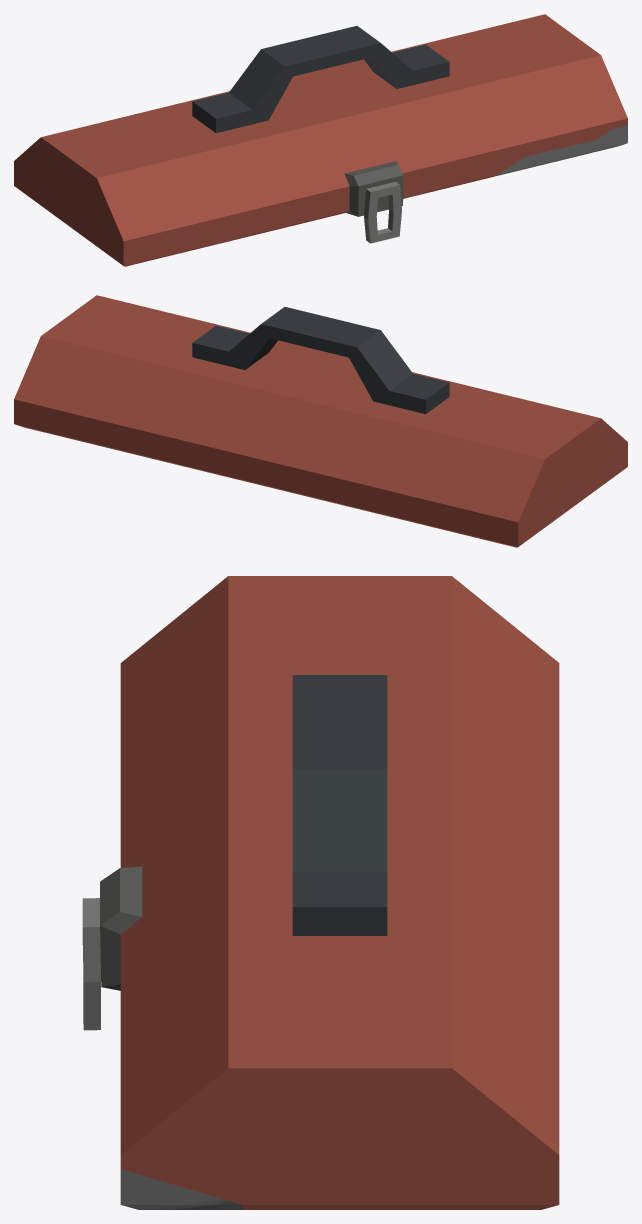
Rendered from SM_Prop_ToolBox_Lid_01.obj.
3 renders of one model, top to bottom at view 1: azimuth 30°, elevation 25°; view 2: azimuth 150°, elevation 25°; view 3: azimuth 270°, elevation 25°, orthographic. The views are drawn at different scales.
Visible parts, largest first — view 1: SM_Prop_ToolBox_Lid_01_0; view 2: SM_Prop_ToolBox_Lid_01_0; view 3: SM_Prop_ToolBox_Lid_01_0.
Part boxes in pixels (x1,y1,x2,y2): SM_Prop_ToolBox_Lid_01_0: (14,14,627,266); SM_Prop_ToolBox_Lid_01_0: (14,295,627,547); SM_Prop_ToolBox_Lid_01_0: (82,576,559,1209).
Size of the model in its own units: 0.6704 by 0.1868 by 0.2745.
Materials: 1 (1 with a texture image).
